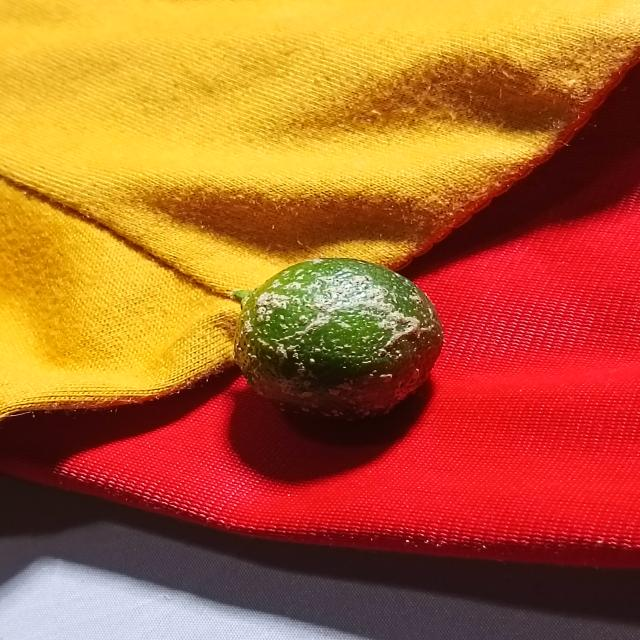scab: (218, 255, 443, 435)
